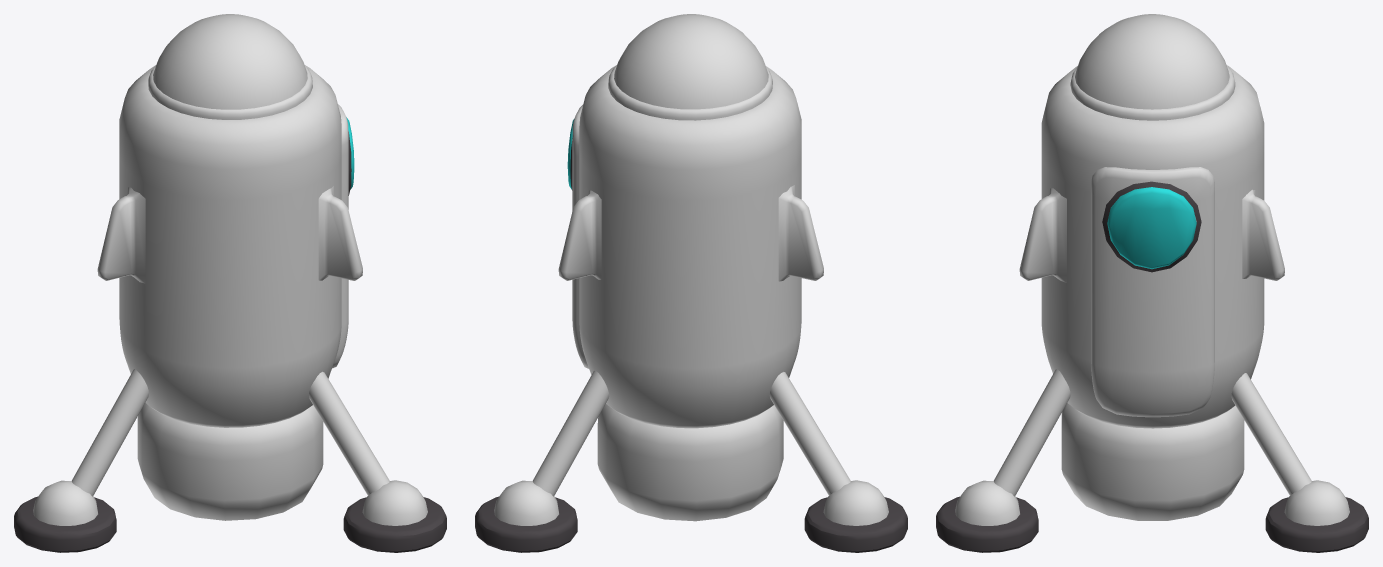
Rendered from Escape_pod.fbx.
3 views of the same model, side by side, from view 1: azimuth 30°, elevation 25°; view 2: azimuth 150°, elevation 25°; view 3: azimuth 270°, elevation 25° (orthographic).
Parts seen in each view (by area): view 1: Cylinder.007, Cylinder.010, Cylinder.009, Sphere, Cube.002, Cylinder.008, Cylinder.011; view 2: Cylinder.007, Cylinder.010, Cylinder.009, Sphere, Cube.002, Cylinder.008, Cylinder.011; view 3: Cylinder.007, Cylinder.011, Cylinder.010, Cylinder.009, Sphere, Cylinder.014, Cube.002, Cylinder.008.
Boxes of the visible parts, x1,y1,x2,y2 form: Cylinder.007: [119, 65, 341, 427]; Cylinder.010: [14, 369, 446, 552]; Cylinder.009: [137, 403, 323, 520]; Sphere: [153, 14, 307, 109]; Cube.002: [97, 186, 362, 283]; Cylinder.008: [148, 65, 312, 119]; Cylinder.011: [332, 104, 348, 368]; Cylinder.007: [579, 65, 801, 428]; Cylinder.010: [475, 371, 907, 552]; Cylinder.009: [597, 404, 783, 521]; Sphere: [614, 14, 768, 109]; Cube.002: [558, 185, 823, 281]; Cylinder.008: [608, 65, 772, 120]; Cylinder.011: [572, 104, 588, 368]; Cylinder.007: [1041, 65, 1264, 428]; Cylinder.011: [1091, 167, 1214, 417]; Cylinder.010: [936, 369, 1368, 552]; Cylinder.009: [1061, 403, 1244, 520]; Sphere: [1075, 14, 1229, 109]; Cylinder.014: [1102, 181, 1201, 272]; Cube.002: [1019, 188, 1284, 282]; Cylinder.008: [1070, 65, 1235, 120].
Bounding box in the file's own units: 2.09 × 2.8 × 2.33.
